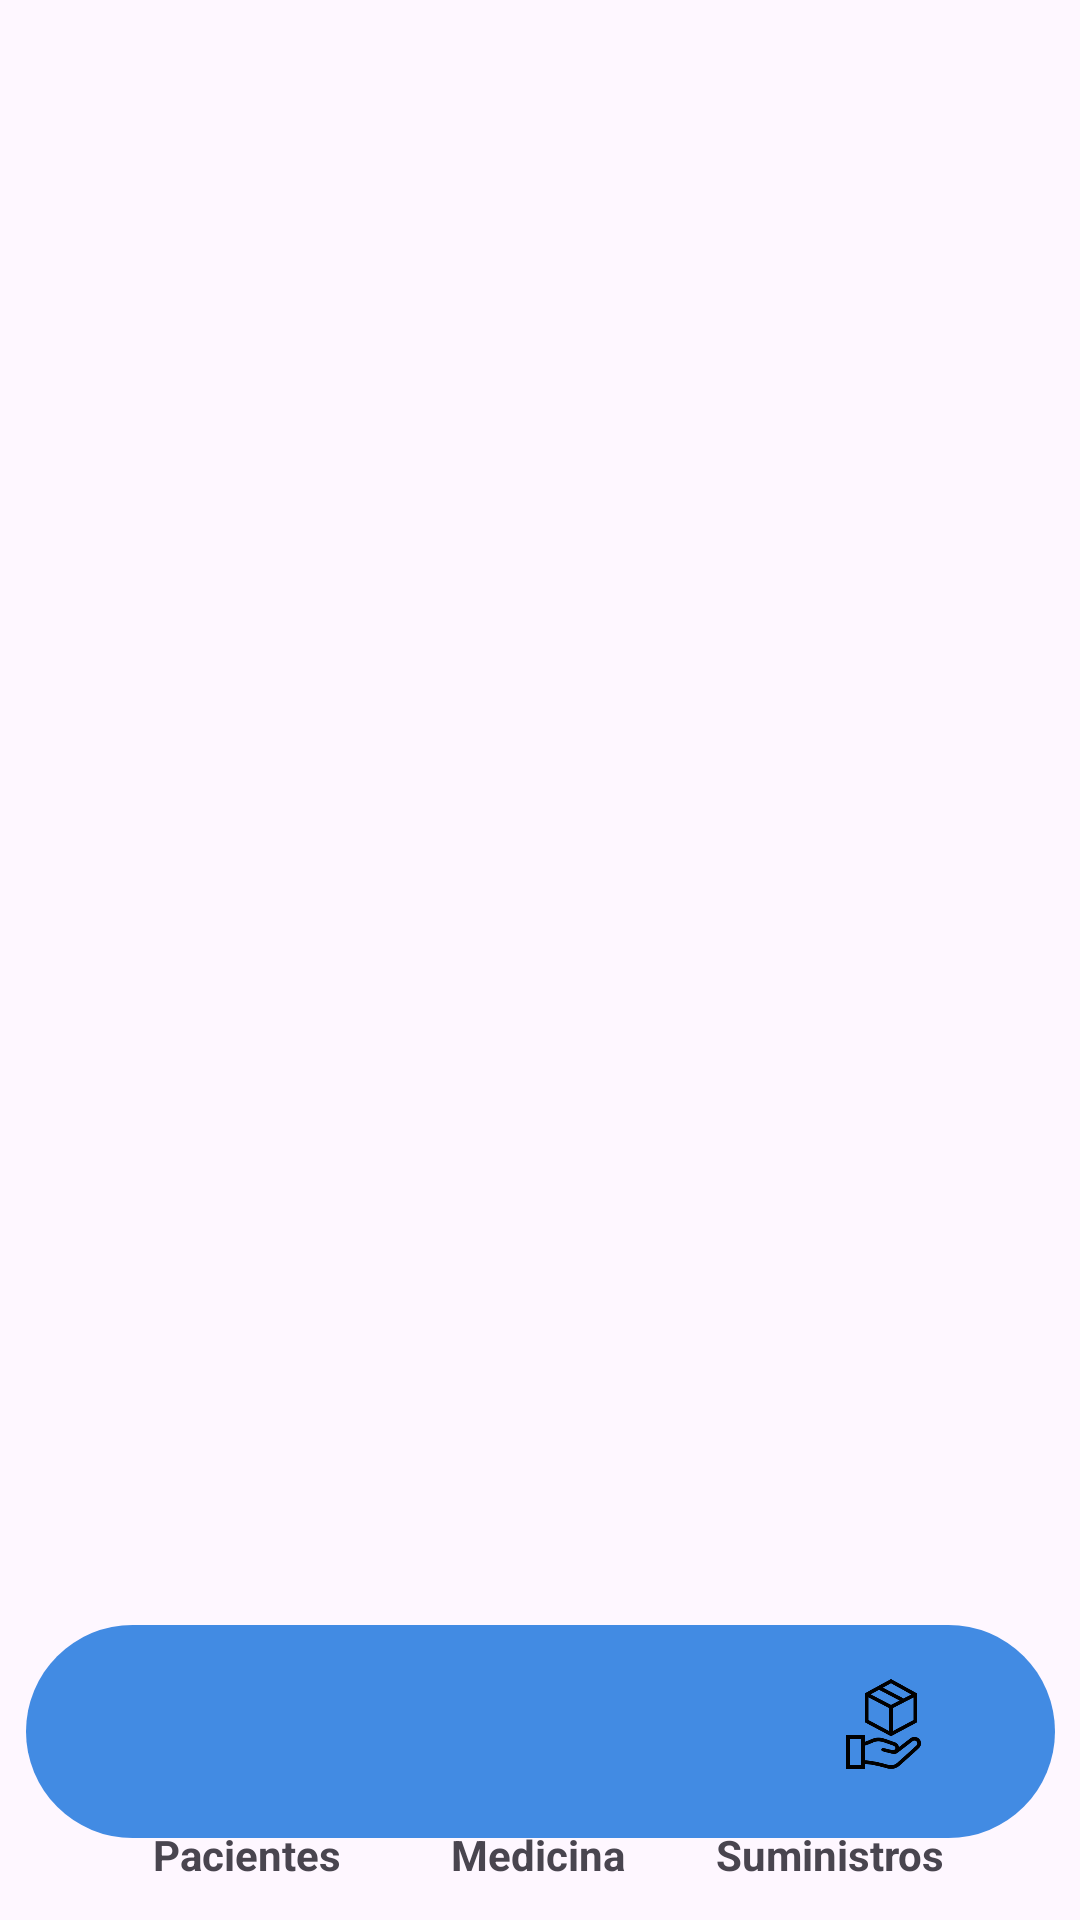

Locate icon controls on the screen. Image size 1080px×1920px, boxes as box(x1, y1, x2, y2).
supply: box(846, 1679, 921, 1769)
